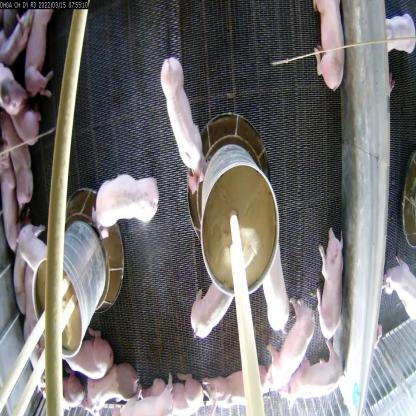Pig: (156, 48, 206, 190), (264, 294, 314, 396), (91, 170, 165, 237), (17, 7, 58, 95), (0, 114, 36, 206), (190, 276, 236, 348), (283, 342, 343, 397), (311, 0, 348, 89), (0, 59, 39, 143), (320, 221, 346, 346), (202, 365, 265, 415), (56, 327, 113, 380), (264, 236, 292, 330), (150, 370, 208, 415), (115, 375, 178, 415), (15, 222, 50, 274)
